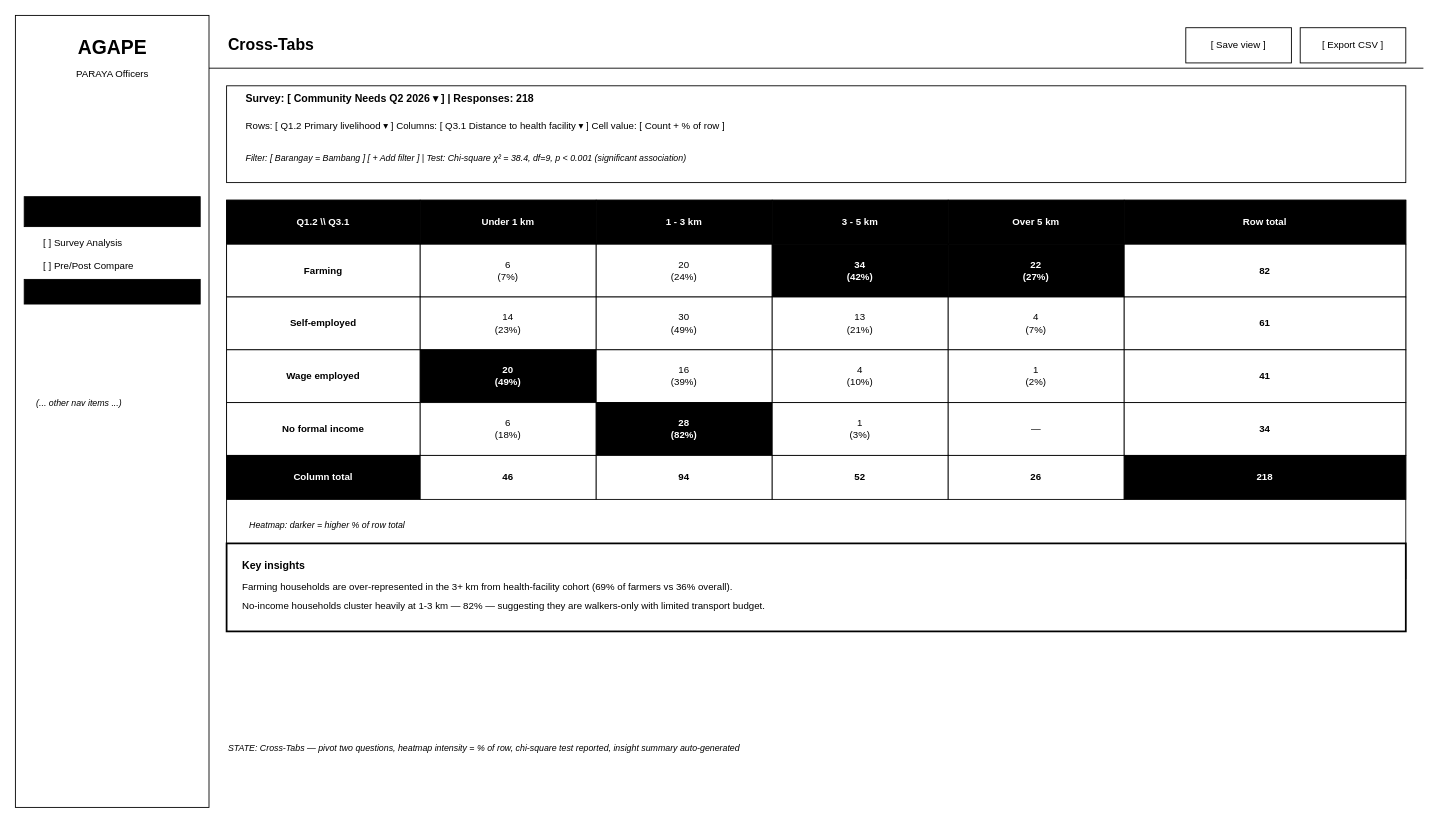
This 1440x823 diagram has some shape labels left out. Each missing label, with the centre of its shape:
"[x] Analytics ▾" belongs at pixel 111 211.
"[x] Cross-Tabs" belongs at pixel 111 291.
